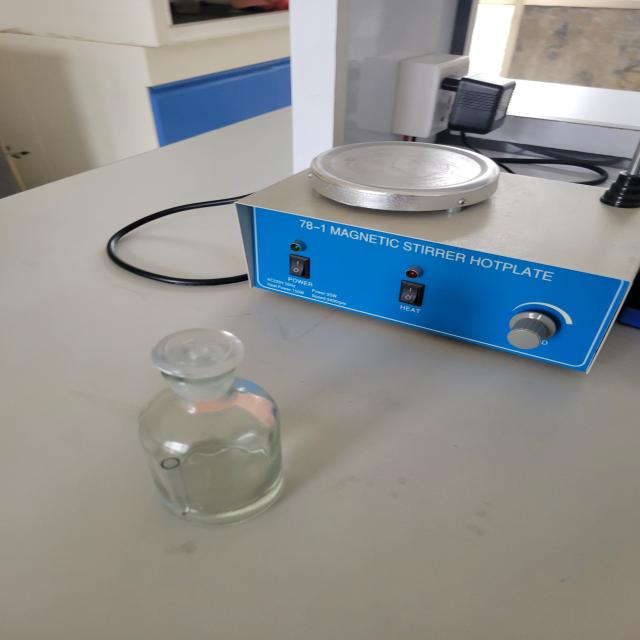Reagent_Bottle: (115, 307, 322, 546)
